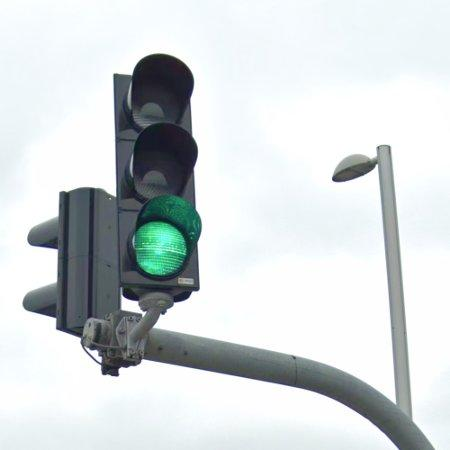traffic lights: (114, 53, 201, 301), (23, 188, 121, 337)
